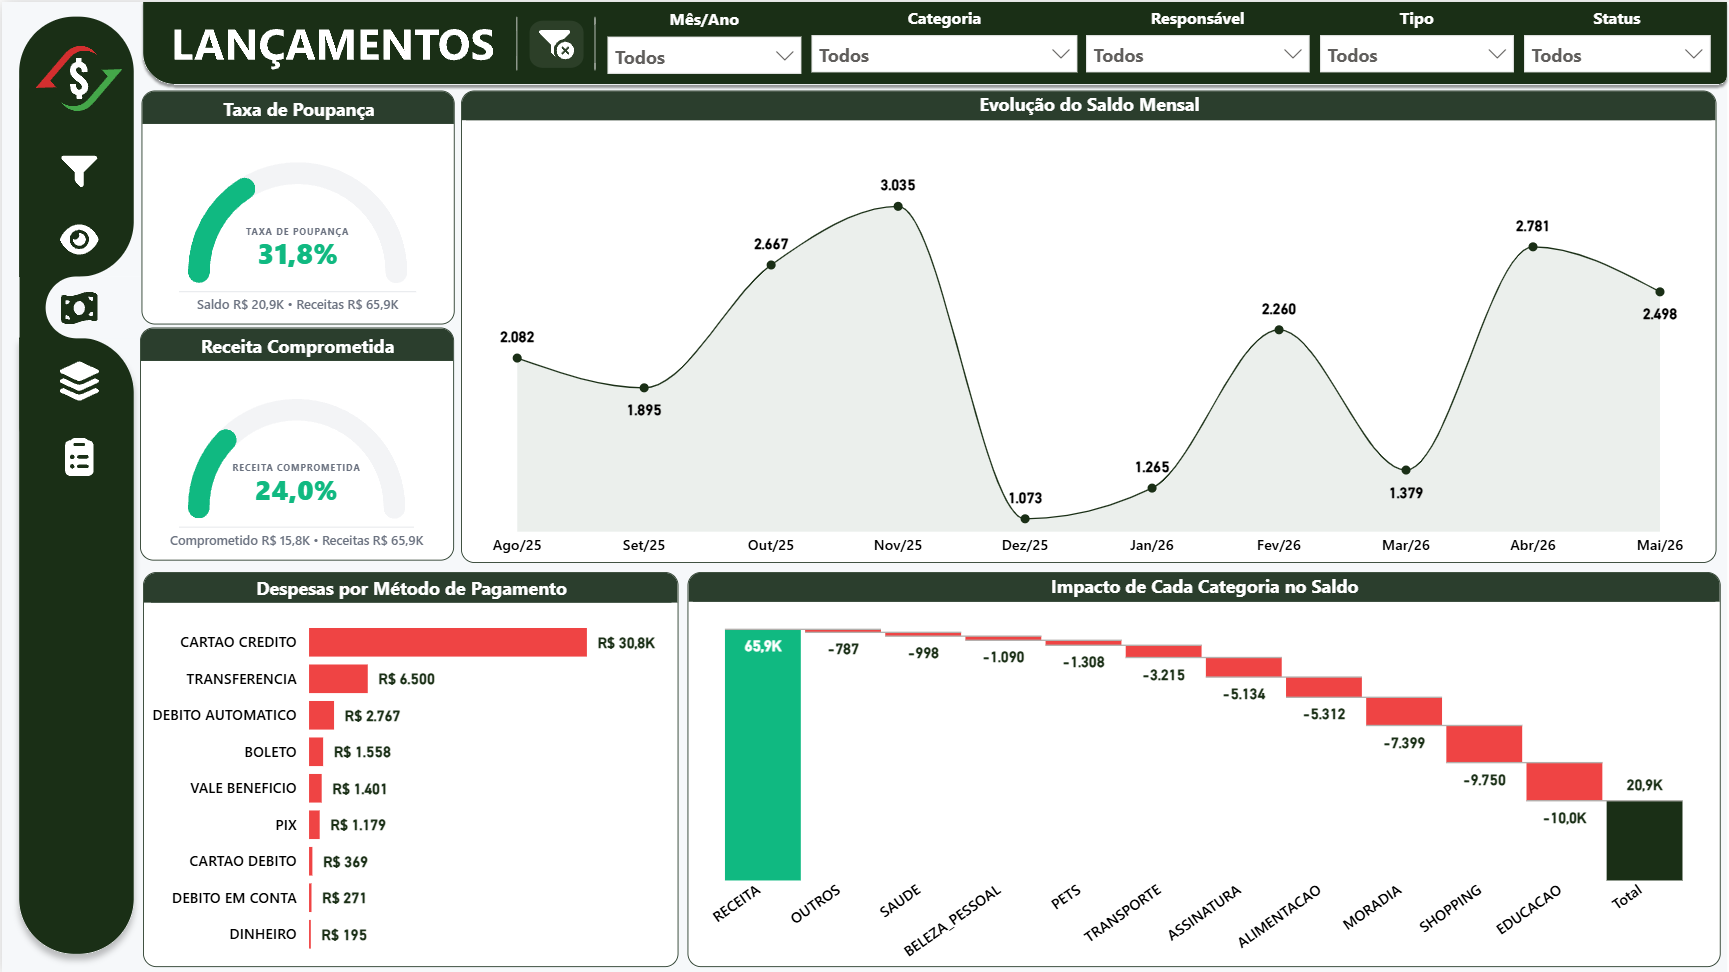

What the dashboard file says about the page in this screenshot:
{"tool":"powerbi","page":{"name":"LANCAMENTOS","canvas":[1280,720],"ordinal":2},"visuals":[{"type":"slicer","title":"Status","fields":{"Values":["Fact_Lancamentos.STATUS"]},"box":[1121.6,3,148.2,60.4],"z":0,"group":"g6"},{"type":"image","title":"Receita Comprometida","box":[102,242,232.4,172.4],"z":0,"group":"g3"},{"type":"actionButton","title":"btn_registros","box":[36.2,316.9,40,40],"z":0,"group":"g5"},{"type":"slicer","title":"Tipo","fields":{"Values":["Fact_Lancamentos.TIPO"]},"box":[970.9,3.5,153.8,60.4],"z":1000,"group":"g6"},{"type":"image","title":"Taxa de Poupança","box":[103.3,65.9,232.1,173.6],"z":1000,"group":"g3"},{"type":"areaChart","title":"Evolução do Saldo Mensal","fields":{"Category":["Dim_Calendario.MesAnoTexto"],"Y":["_Medidas.Saldo"]},"box":[340.1,66,929.8,349.8],"z":1000,"group":"g1"},{"type":"actionButton","title":"btn_detalhamento","box":[36.8,261.9,40,40],"z":1000,"group":"g5"},{"type":"waterfallChart","title":"Impacto de Cada Categoria no Saldo","fields":{"Category":["Fact_Lancamentos.CATEGORIA"],"Y":["_Medidas.Waterfall Valor"]},"box":[507,422.2,765,292.5],"z":1250,"group":"g1"},{"type":"group","id":"g1","title":"g_graficos","box":[104.2,66,1167.8,649],"z":1500,"group":"g4"},{"type":"clusteredBarChart","title":"Despesas por Método de Pagamento","fields":{"Category":["Fact_Lancamentos.METODO_PAGAMENTO"],"Y":["_Medidas.Despesas"]},"box":[104.2,422.5,396.7,292.5],"z":1500,"group":"g1"},{"type":"group","id":"g2","title":"g_topbar","box":[382.1,3,887.7,61.1],"z":2000},{"type":"slicer","title":"Responsável","fields":{"Values":["Fact_Lancamentos.RESPONSAVEL"]},"box":[798.1,3,175.8,60.4],"z":2000,"group":"g6"},{"type":"group","id":"g3","title":"g_gauges","box":[102,65.9,233.4,348.4],"z":2000,"group":"g4"},{"type":"actionButton","title":"btn_lancamentos","box":[36,206.7,40,40],"z":2000,"group":"g5"},{"type":"group","id":"g4","title":"g_dados","box":[102,65.9,1170,649.1],"z":2500},{"type":"group","id":"g5","title":"g_btn_navegção","box":[23.1,26.7,67.4,330.2],"z":2750},{"type":"slicer","title":"Categoria","fields":{"Values":["Fact_Lancamentos.CATEGORIA"]},"box":[593.8,3,207.3,60.4],"z":3000,"group":"g6"},{"type":"actionButton","title":"btn_visao_geral","box":[36,155.5,40,40],"z":3000,"group":"g5"},{"type":"actionButton","title":"btn_menu_on","box":[36,105,40,40],"z":3500,"group":"g5"},{"type":"slicer","title":"Mês/Ano","fields":{"Values":["Dim_Calendario.MesAnoTexto"]},"box":[443.1,3.7,153.8,60.4],"z":4000,"group":"g6"},{"type":"actionButton","title":"btn_home","box":[23.1,26.7,67.4,60.9],"z":4000,"group":"g5"},{"type":"group","id":"g6","title":"g_filtros","box":[443.1,3,826.7,61.1],"z":4250,"group":"g2"},{"type":"actionButton","title":"btn_reset_filtros_rapidos","box":[382.1,7,56.2,50],"z":4500,"group":"g2"}]}

Visuals, with their boxes in screenshot pixels (x1, y1, x2, y2), scaled from the page's 1280x720 canvas onto the 1729x972 screenshot:
"Status" slicer: pyautogui.locateOnScreen(1515, 4, 1715, 86)
"Receita Comprometida" image: pyautogui.locateOnScreen(138, 327, 452, 559)
"btn_registros" actionButton: pyautogui.locateOnScreen(49, 428, 103, 482)
"Tipo" slicer: pyautogui.locateOnScreen(1311, 5, 1519, 86)
"Taxa de Poupança" image: pyautogui.locateOnScreen(140, 89, 453, 323)
"Evolução do Saldo Mensal" areaChart: pyautogui.locateOnScreen(459, 89, 1715, 561)
"btn_detalhamento" actionButton: pyautogui.locateOnScreen(50, 354, 104, 408)
"Impacto de Cada Categoria no Saldo" waterfallChart: pyautogui.locateOnScreen(685, 570, 1718, 965)
"g_graficos" group: pyautogui.locateOnScreen(141, 89, 1718, 965)
"Despesas por Método de Pagamento" clusteredBarChart: pyautogui.locateOnScreen(141, 570, 677, 965)
"g_topbar" group: pyautogui.locateOnScreen(516, 4, 1715, 87)
"Responsável" slicer: pyautogui.locateOnScreen(1078, 4, 1316, 86)
"g_gauges" group: pyautogui.locateOnScreen(138, 89, 453, 559)
"btn_lancamentos" actionButton: pyautogui.locateOnScreen(49, 279, 103, 333)
"g_dados" group: pyautogui.locateOnScreen(138, 89, 1718, 965)
"g_btn_navegção" group: pyautogui.locateOnScreen(31, 36, 122, 482)
"Categoria" slicer: pyautogui.locateOnScreen(802, 4, 1082, 86)
"btn_visao_geral" actionButton: pyautogui.locateOnScreen(49, 210, 103, 264)
"btn_menu_on" actionButton: pyautogui.locateOnScreen(49, 142, 103, 196)
"Mês/Ano" slicer: pyautogui.locateOnScreen(599, 5, 806, 87)
"btn_home" actionButton: pyautogui.locateOnScreen(31, 36, 122, 118)
"g_filtros" group: pyautogui.locateOnScreen(599, 4, 1715, 87)
"btn_reset_filtros_rapidos" actionButton: pyautogui.locateOnScreen(516, 9, 592, 77)
